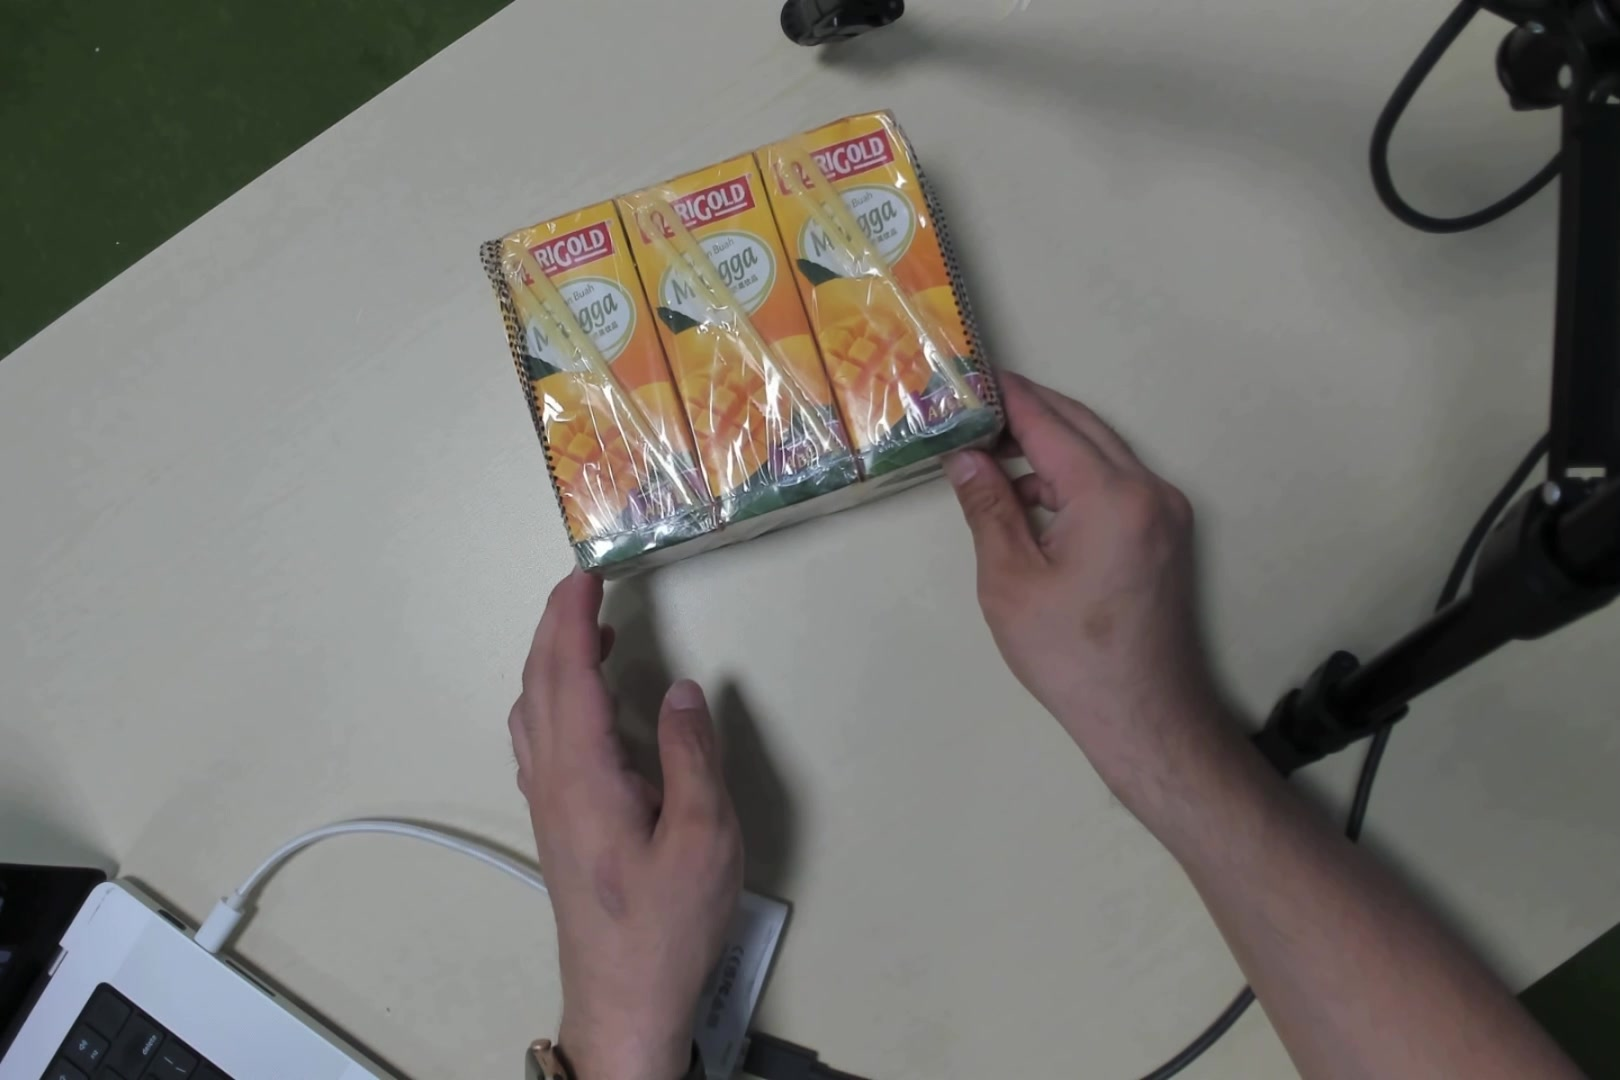FruitJuice_700-799g_Halal_NonHealthy: (515, 133, 956, 499)
